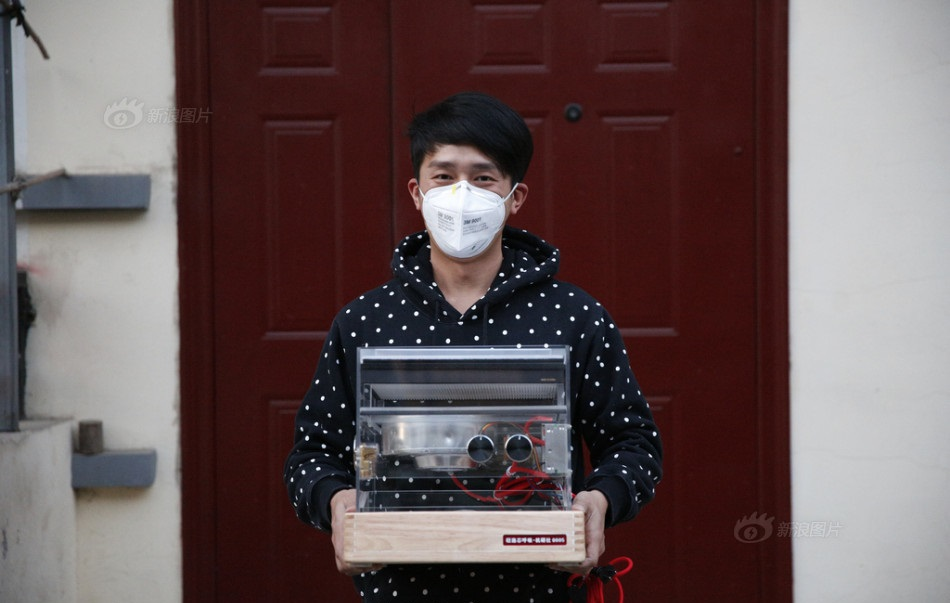face_mask: (418, 147, 506, 257)
